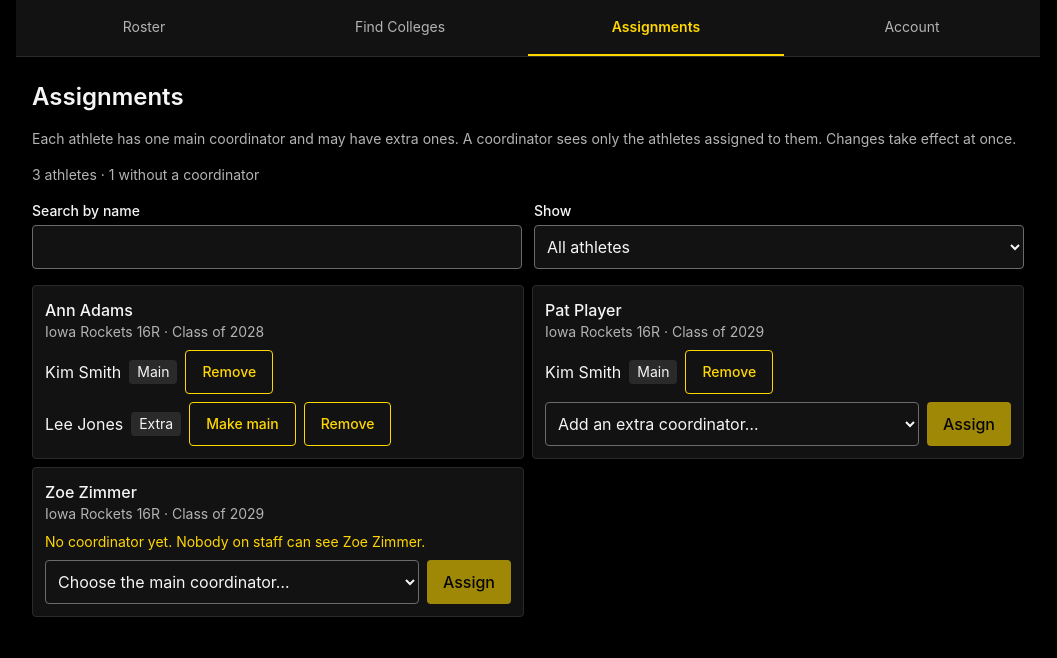
Assignments (administrator) › makes the first coordinator of an athlete the main one
This screenshot has width=1057, height=658.
Expected: the list named "Athletes" is shown, [32,285,1024,617]
Select "Lee Jones" in the dropdown named "Add a coordinator for Zoe Zimmer" at x=232, y=582, box [45,560,419,604]
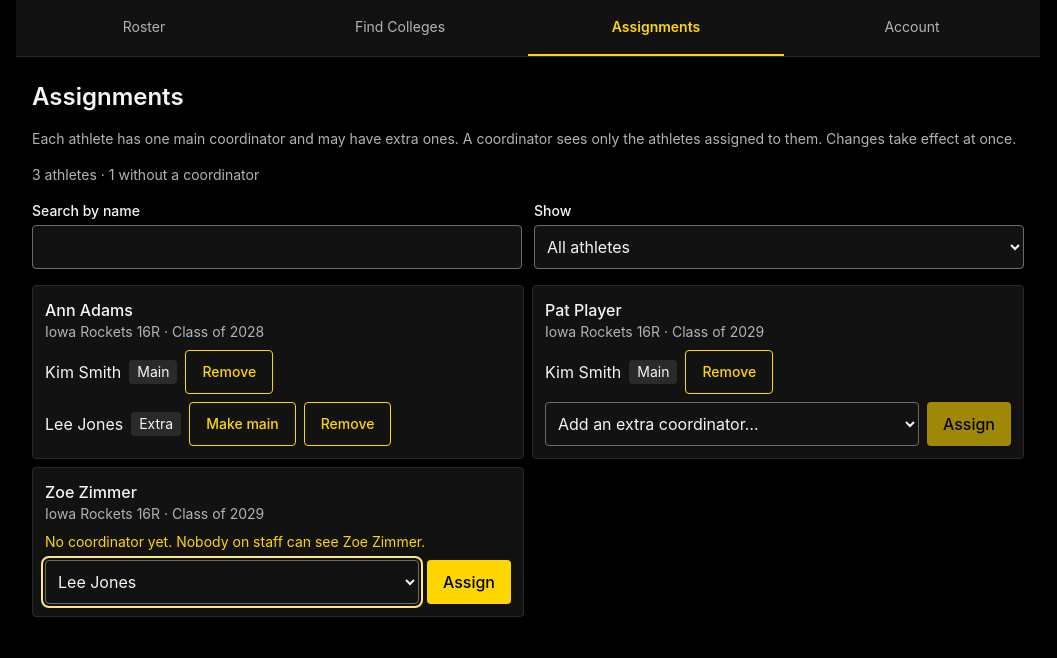
Click the button with aria-label "Assign to Zoe Zimmer" at x=469, y=582, box [427,560,511,604]
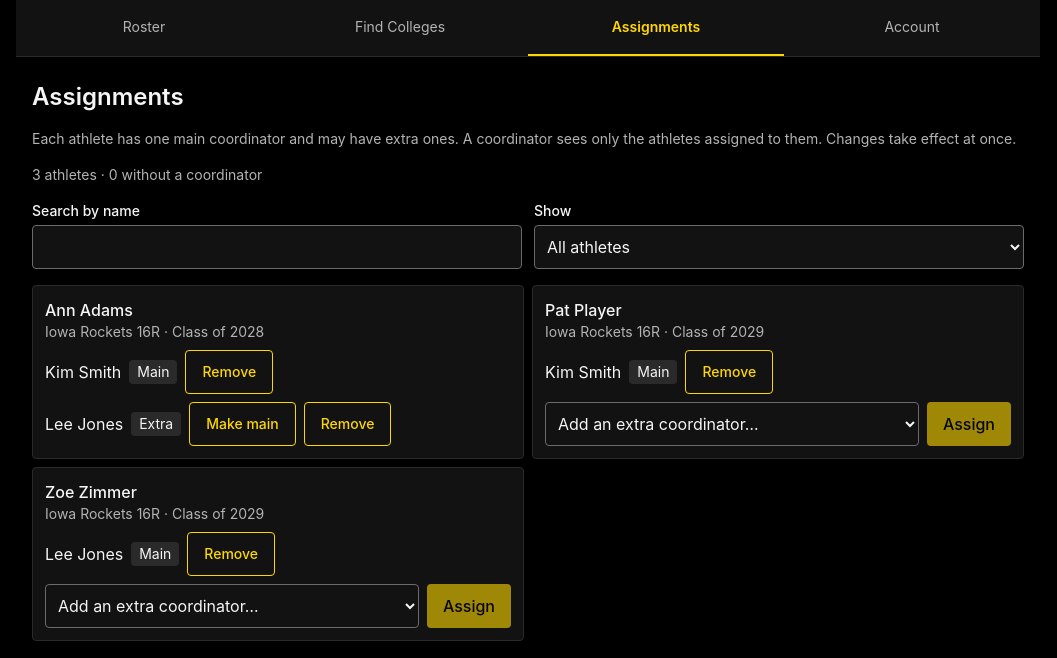
Expected: the text "3 athletes · 0 without a coordinator" is shown, [32,166,262,183]
Expected: the text "Lee Jones" below "Zoe Zimmer" is shown, [45,544,123,564]
